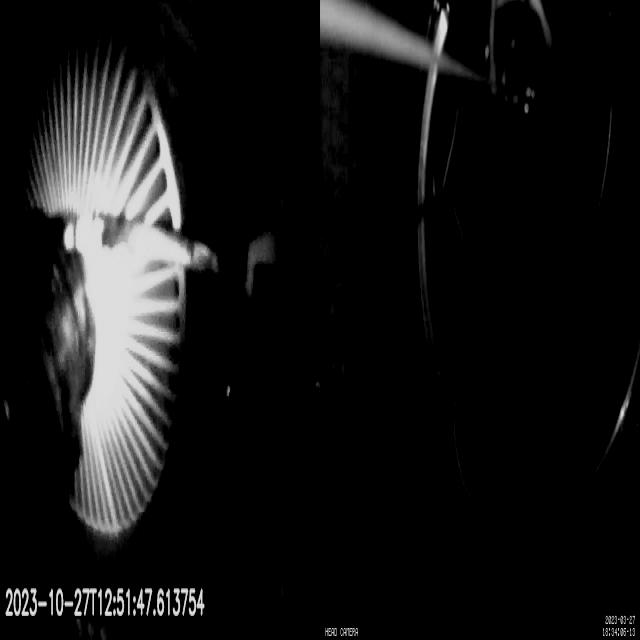white-dots: (245, 233, 285, 298)
